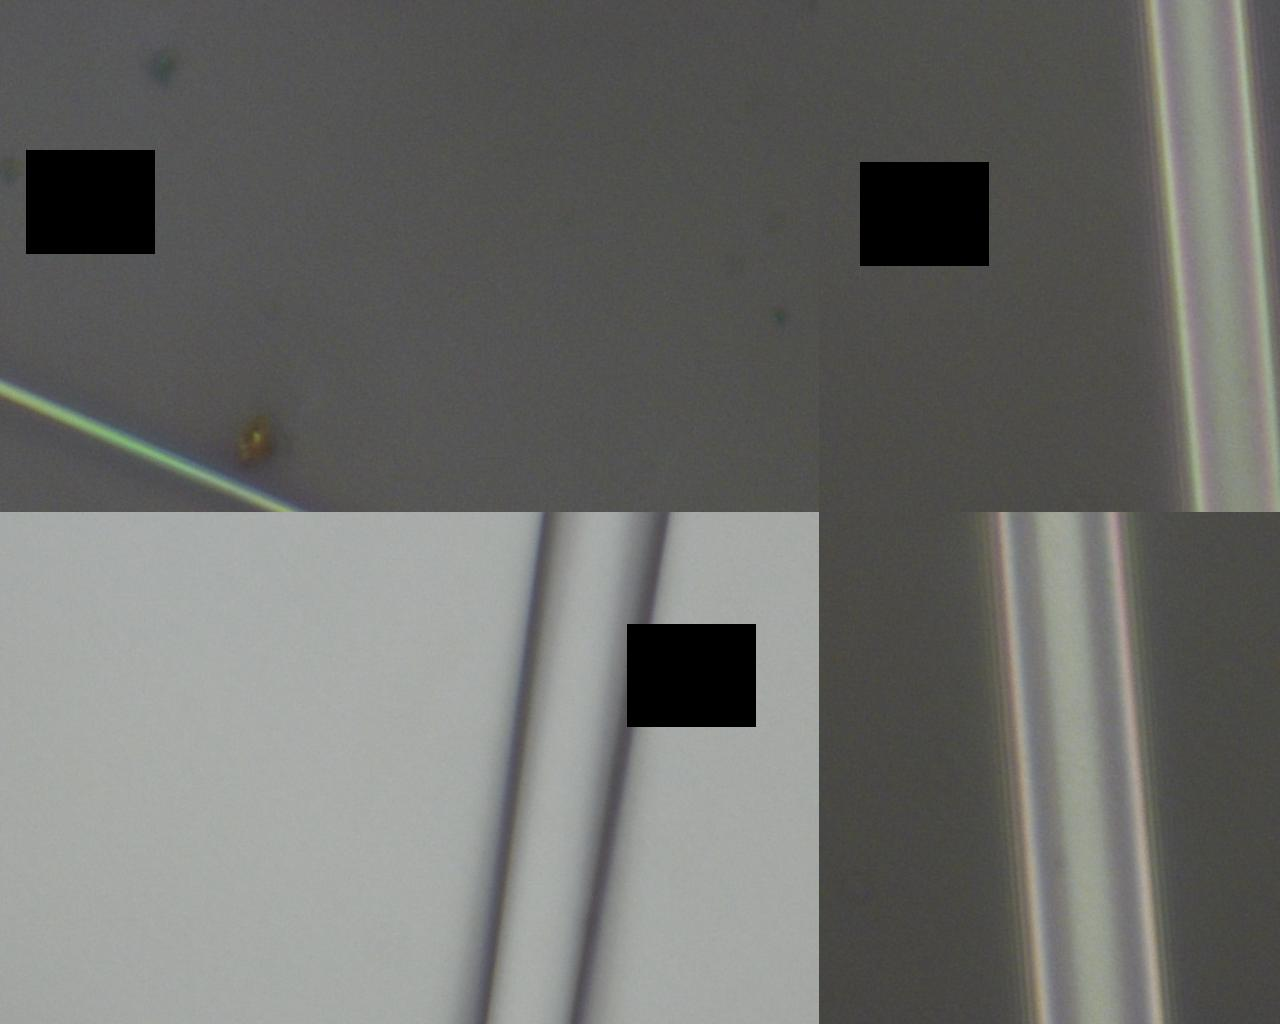fiber: (0, 635, 576, 836), (0, 214, 576, 350), (757, 168, 921, 522), (771, 734, 928, 1024)
